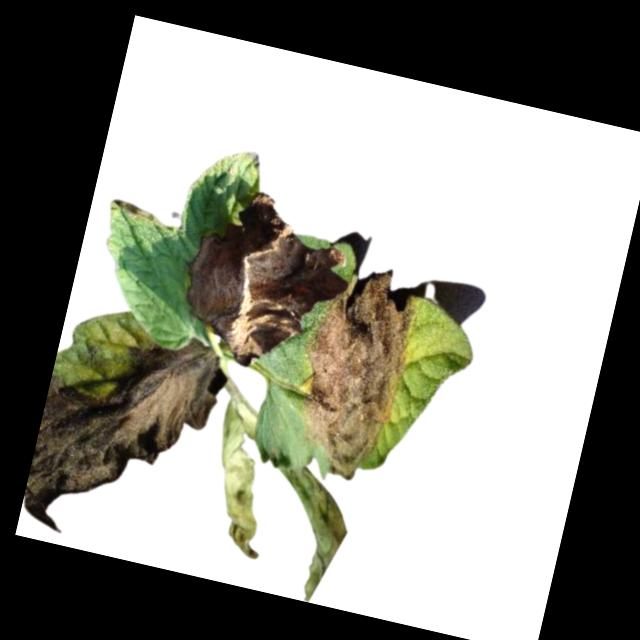Late_blight: (18, 310, 229, 560), (167, 177, 356, 385), (278, 256, 423, 487), (194, 403, 287, 559), (266, 471, 357, 607)
